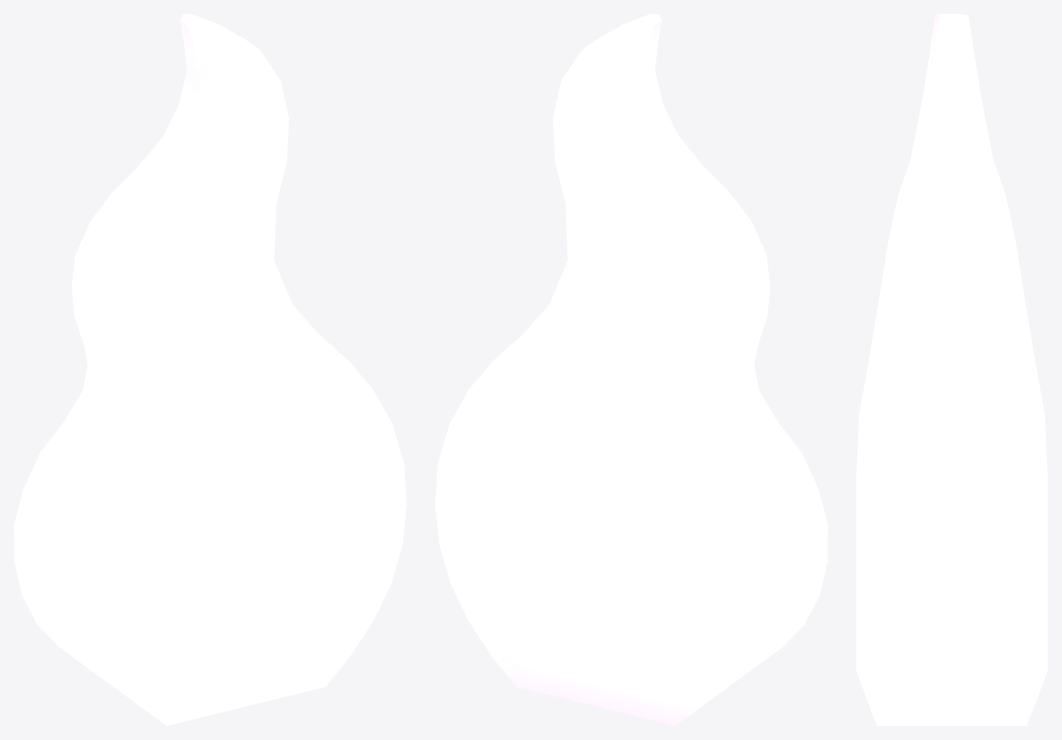
3 renders of one model, left to right at view 1: azimuth 30°, elevation 25°; view 2: azimuth 150°, elevation 25°; view 3: azimuth 270°, elevation 25°, orthographic.
Parts seen in each view (by area): view 1: SM_Gorse_05_LOD0; view 2: SM_Gorse_05_LOD0; view 3: SM_Gorse_05_LOD0.
Part boxes in pixels (x1,y1,x2,y2): SM_Gorse_05_LOD0: (14,14,406,725); SM_Gorse_05_LOD0: (435,14,827,725); SM_Gorse_05_LOD0: (856,14,1047,725).
Bounding box in the file's own units: 0.4801 × 0.9693 × 0.2531.
